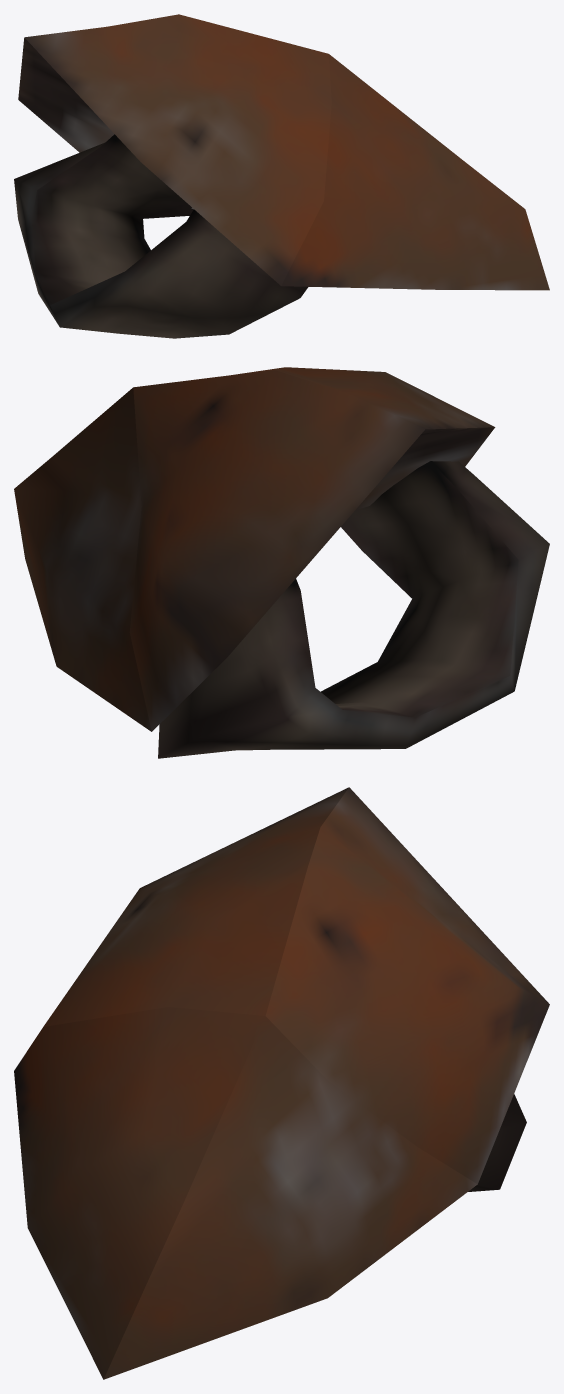
The model's file is RustedArmor_piece2.fbx.
3 renders of one model, top to bottom at view 1: azimuth 30°, elevation 25°; view 2: azimuth 150°, elevation 25°; view 3: azimuth 270°, elevation 25°, orthographic. The views are drawn at different scales.
Parts seen in each view (by area): view 1: armor_piece2; view 2: armor_piece2; view 3: armor_piece2.
Boxes of the visible parts, x1,y1,x2,y2 form: armor_piece2: (14,14,549,338); armor_piece2: (14,367,549,758); armor_piece2: (14,787,549,1379).
Bounding box in the file's own units: 27.92 × 17.69 × 24.02.
